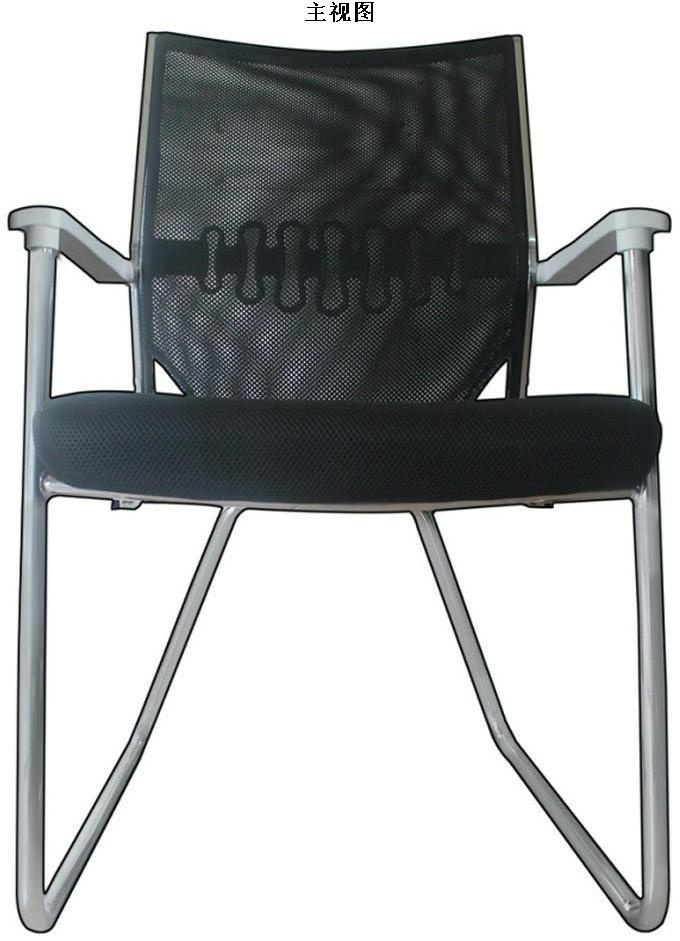obstacle: (9, 33, 668, 930)
